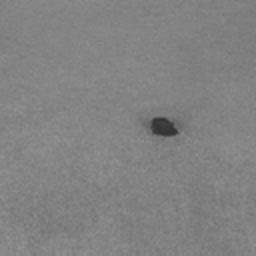Iron sheet ash: (150, 117, 179, 137)
